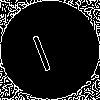I: (25, 25, 54, 73)
